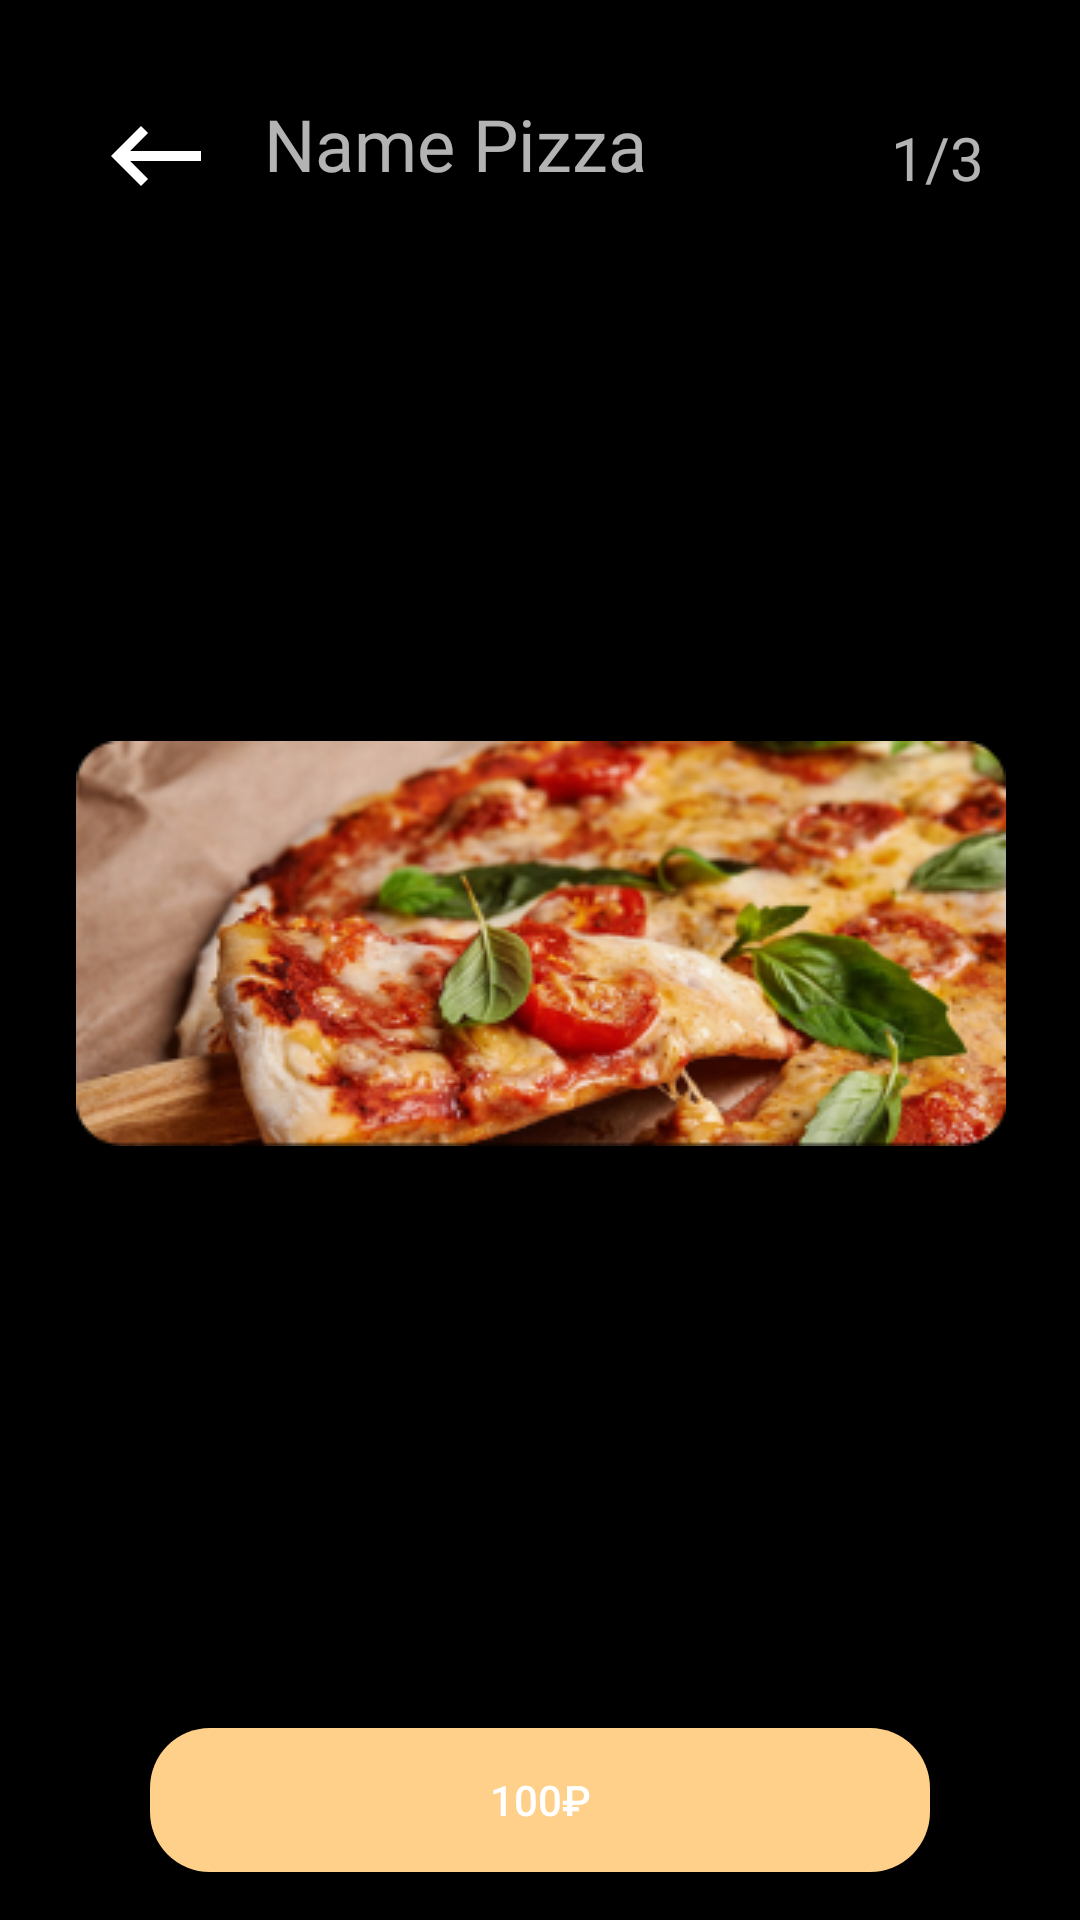

Named icons in this screenshot (1080 × 1920) and their centers, (x=x, y=y):
keyboard backspace: (x=156, y=156)
